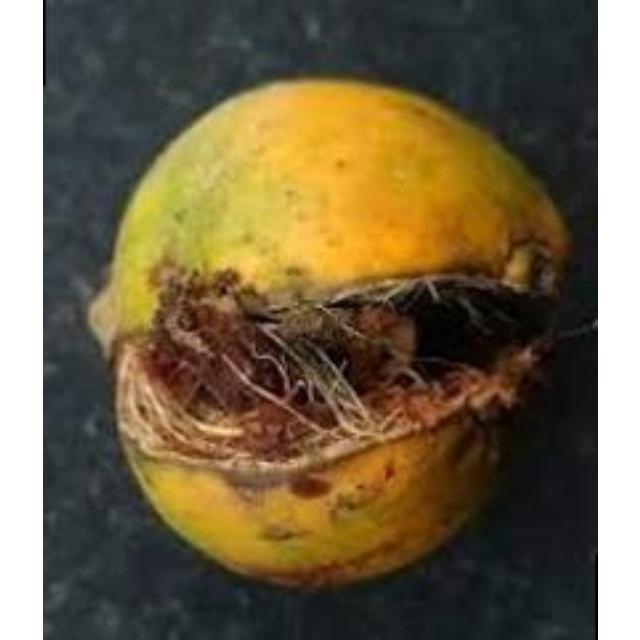damaged: (84, 80, 573, 598)
